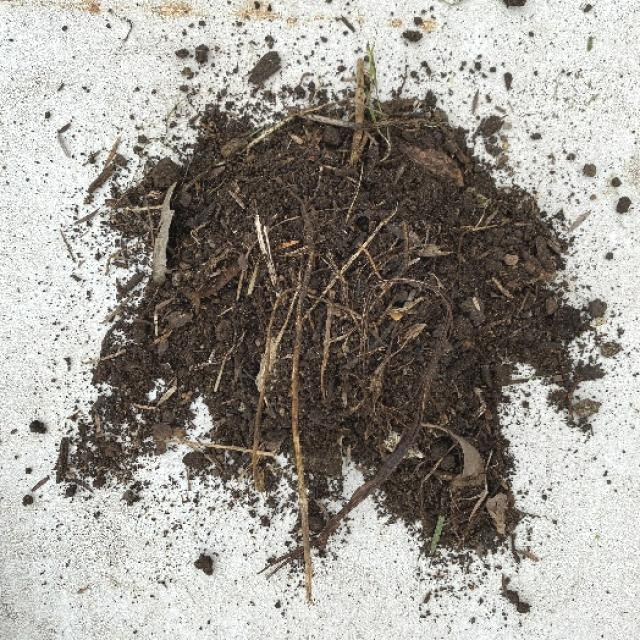wet: (244, 181, 442, 597), (112, 108, 276, 282), (204, 101, 329, 164)
